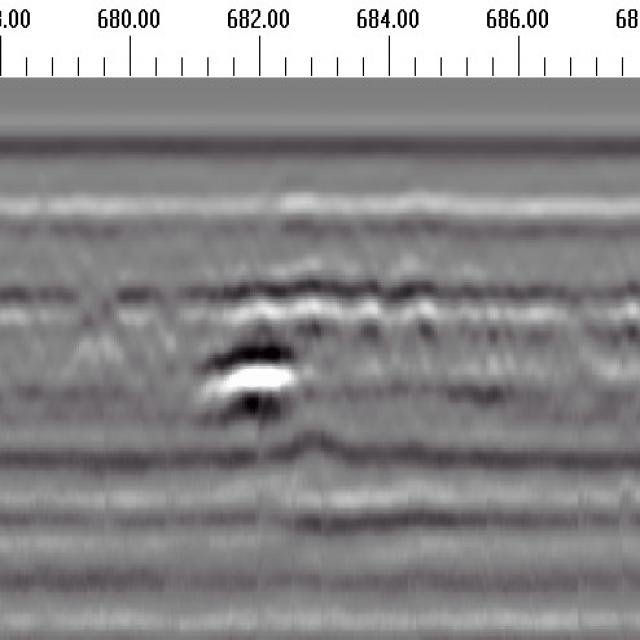loose: (185, 264, 454, 421)
